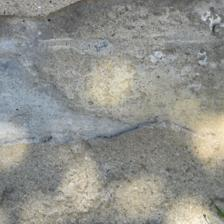Crack: (5, 113, 214, 154)
